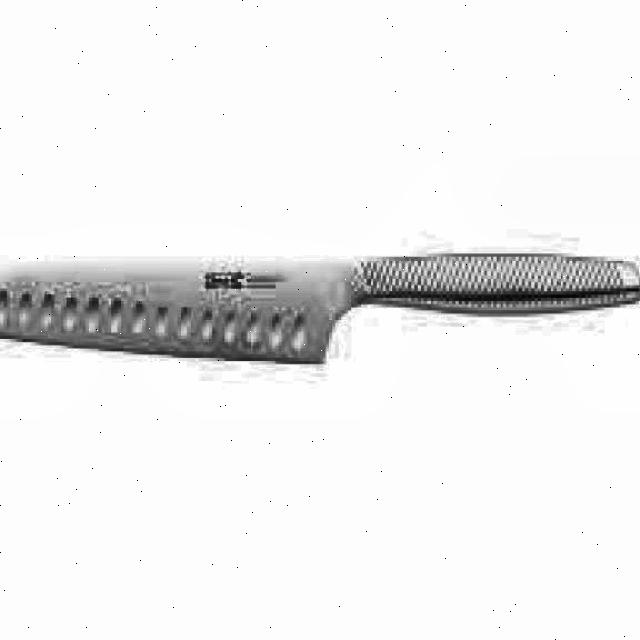knife: (0, 246, 640, 376)
